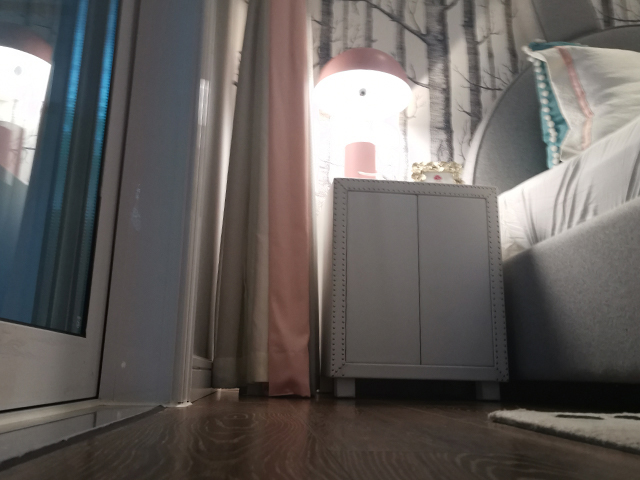bed: (458, 24, 640, 402)
carpet: (485, 409, 640, 456)
curtain: (208, 1, 323, 402)
stool: (318, 176, 514, 400)
